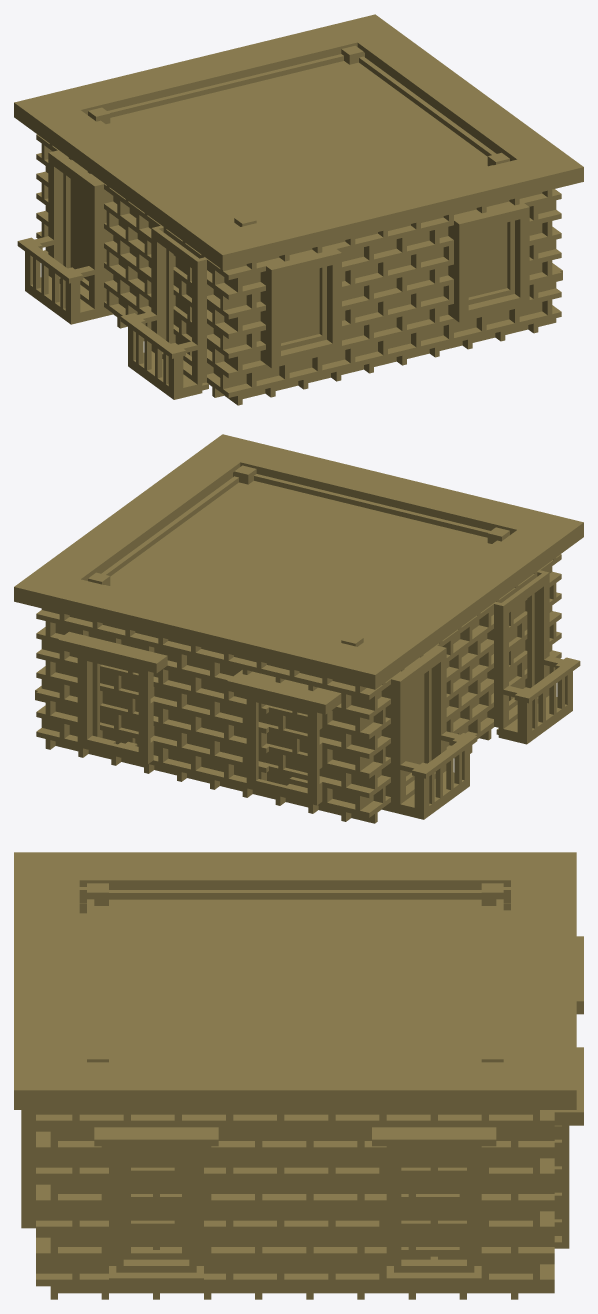
Rendered from brickhouse-4.obj.
3 views of the same model, one above another, from view 1: azimuth 30°, elevation 25°; view 2: azimuth 150°, elevation 25°; view 3: azimuth 270°, elevation 25° (orthographic). The views are drawn at different scales.
Bounding box in the file's own units: 8.5 × 3.3 × 7.8.
Materials: 1 (1 with a texture image).
